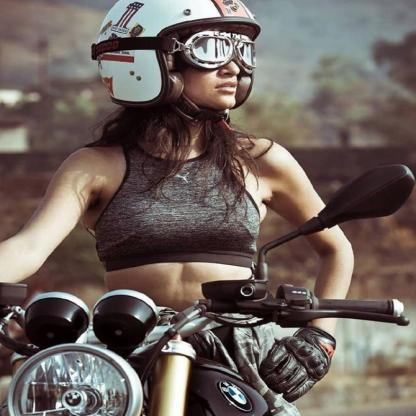helmet: (94, 0, 261, 109)
